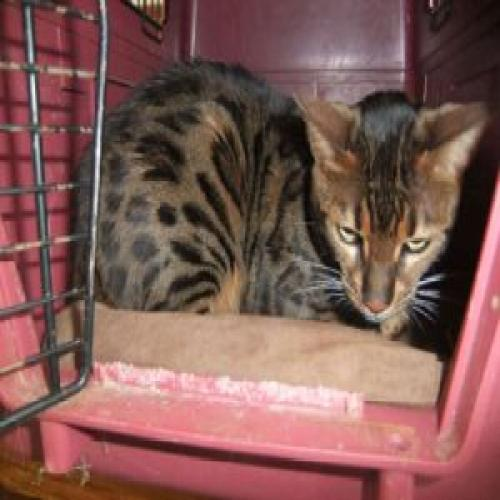bengal: (284, 79, 497, 341)
